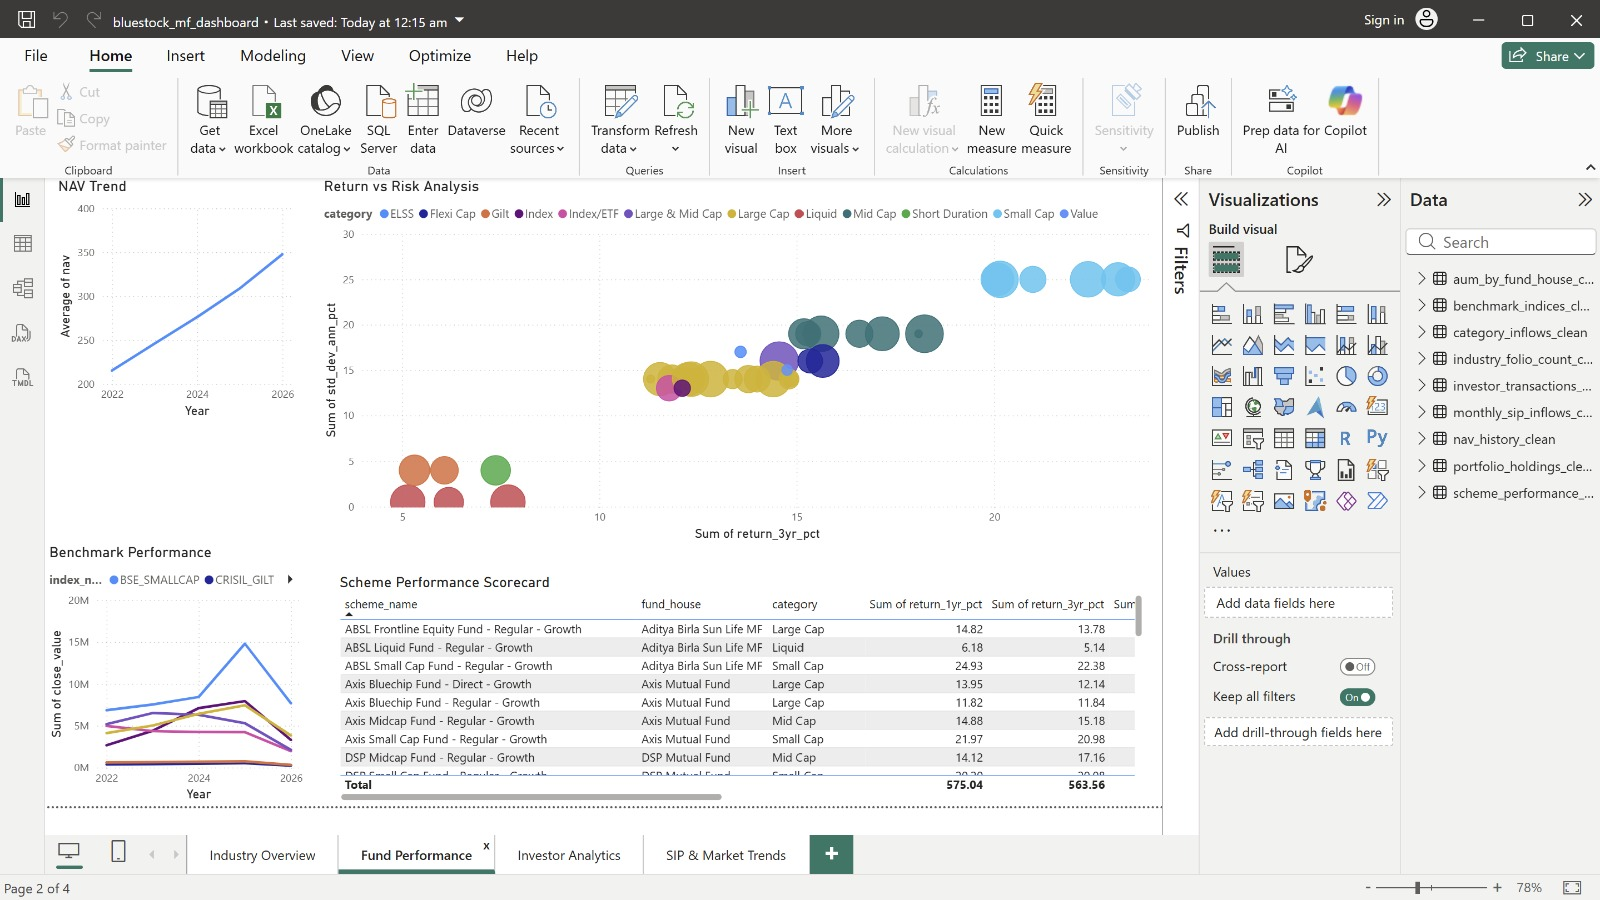

This screenshot's page, from the dashboard's own definition file:
{"tool":"powerbi","page":{"name":"Fund Performance","canvas":[1280,720],"ordinal":1},"visuals":[{"type":"lineChart","title":"NAV Trend","fields":{"Category":["nav_history_clean.date.Variation.Date Hierarchy.Year","nav_history_clean.date.Variation.Date Hierarchy.Quarter","nav_history_clean.date.Variation.Date Hierarchy.Month","nav_history_clean.date.Variation.Date Hierarchy.Day"],"Y":["Avg(nav_history_clean.nav)"]},"box":[10,0,280,280],"z":0},{"type":"tableEx","title":"Scheme Performance Scorecard","fields":{"Values":["scheme_performance_clean.scheme_name","scheme_performance_clean.fund_house","scheme_performance_clean.category","Sum(scheme_performance_clean.return_1yr_pct)","Sum(scheme_performance_clean.return_3yr_pct)","Sum(scheme_performance_clean.return_5yr_pct)","Sum(scheme_performance_clean.alpha)","Sum(scheme_performance_clean.beta)","Sum(scheme_performance_clean.sharpe_ratio)","Sum(scheme_performance_clean.sortino_ratio)","Sum(scheme_performance_clean.expense_ratio_pct)","Sum(scheme_performance_clean.morningstar_rating)"]},"box":[332.9,454.3,930,265.7],"z":1000},{"type":"scatterChart","title":"Return vs Risk Analysis","fields":{"X":["Sum(scheme_performance_clean.return_3yr_pct)"],"Y":["Sum(scheme_performance_clean.std_dev_ann_pct)"],"Size":["Sum(scheme_performance_clean.aum_crore)"],"Category":["scheme_performance_clean.scheme_name"],"Series":["scheme_performance_clean.category"]},"box":[314.3,0,965.7,420],"z":2000},{"type":"lineChart","title":"Benchmark Performance ","fields":{"Category":["benchmark_indices_clean.date.Variation.Date Hierarchy.Year","benchmark_indices_clean.date.Variation.Date Hierarchy.Quarter","benchmark_indices_clean.date.Variation.Date Hierarchy.Month","benchmark_indices_clean.date.Variation.Date Hierarchy.Day"],"Y":["Sum(benchmark_indices_clean.close_value)"],"Series":["benchmark_indices_clean.index_name"]},"box":[0,420,300,300],"z":3000}]}

Visuals, with their boxes on the page's 1280x720 design canvas (x1, y1, x2, y2). These are canvas units, not pixel positions in the 1600x900 screenshot, which may show the page scaled, cropped or inside an application window:
"NAV Trend" lineChart: 10,0,290,280
"Scheme Performance Scorecard" tableEx: 333,454,1263,720
"Return vs Risk Analysis" scatterChart: 314,0,1280,420
"Benchmark Performance " lineChart: 0,420,300,720
